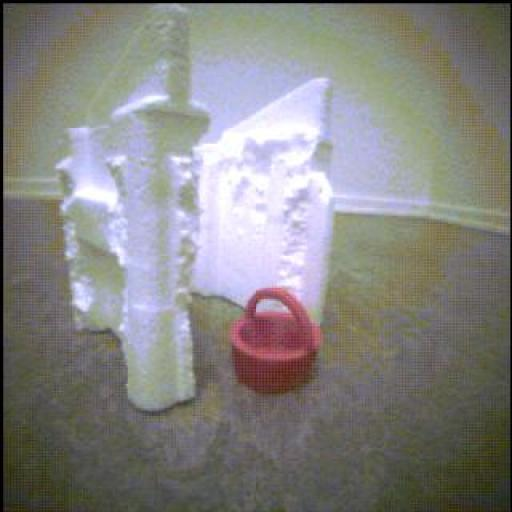Bucket: (232, 289, 323, 395)
